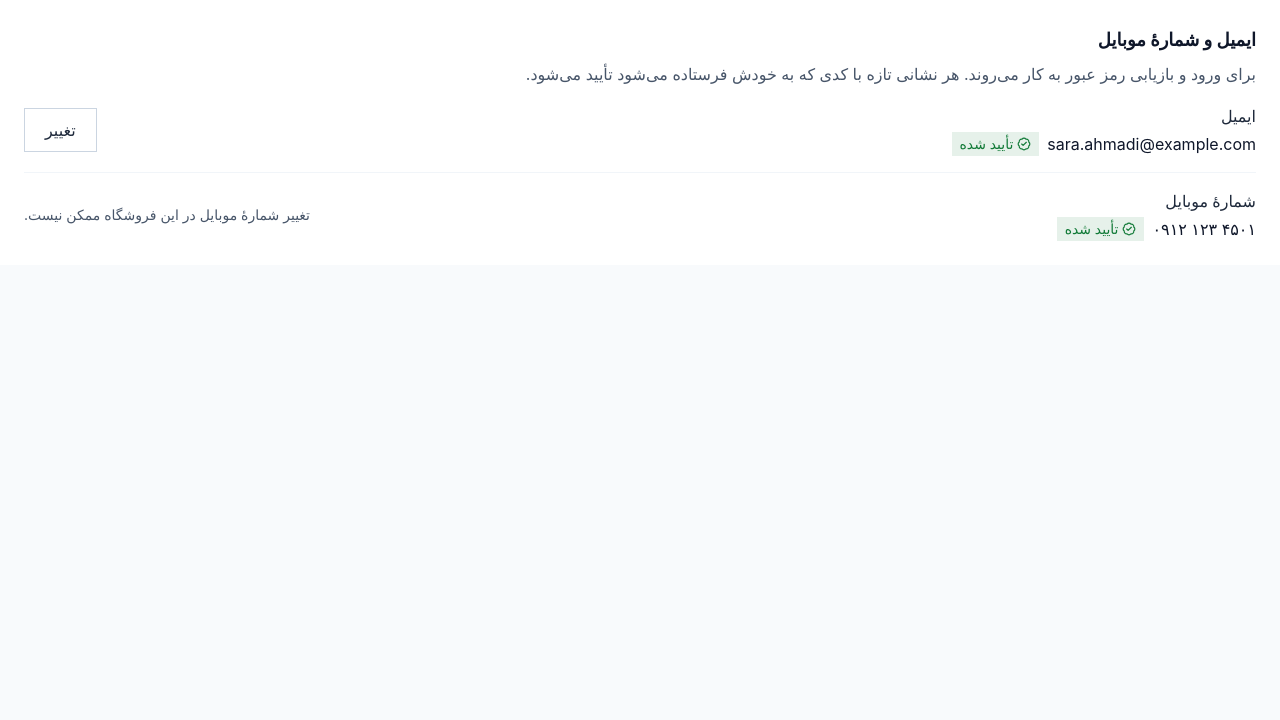
Test case: the authenticator code of a contact change › a refused code (auth_totp_invalid): said under the boxes, which empty and take the focus
The image size is (1280, 720).
Click the button with aria-label "تغییر ایمیل" at (60, 130), box [24,108,97,152]
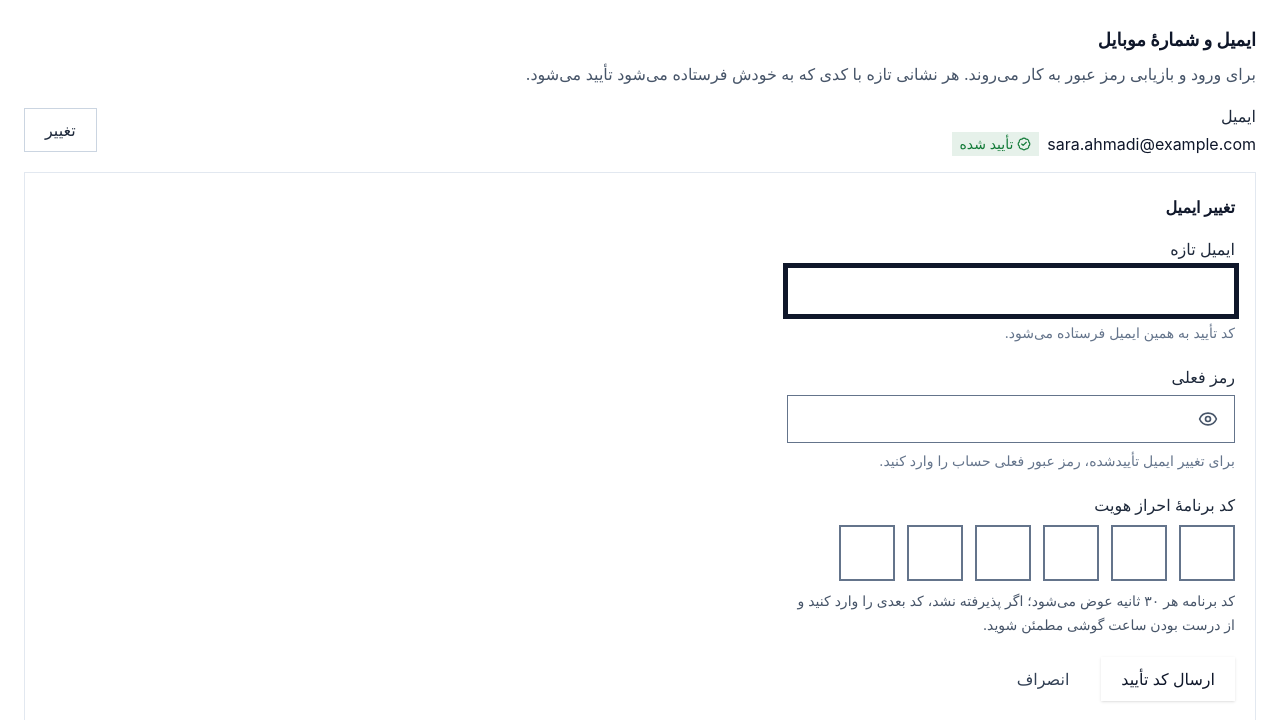
Type "n@example.com" into the field labelled "ایمیل تازه" at (1011, 291), box [788,268,1234,314]
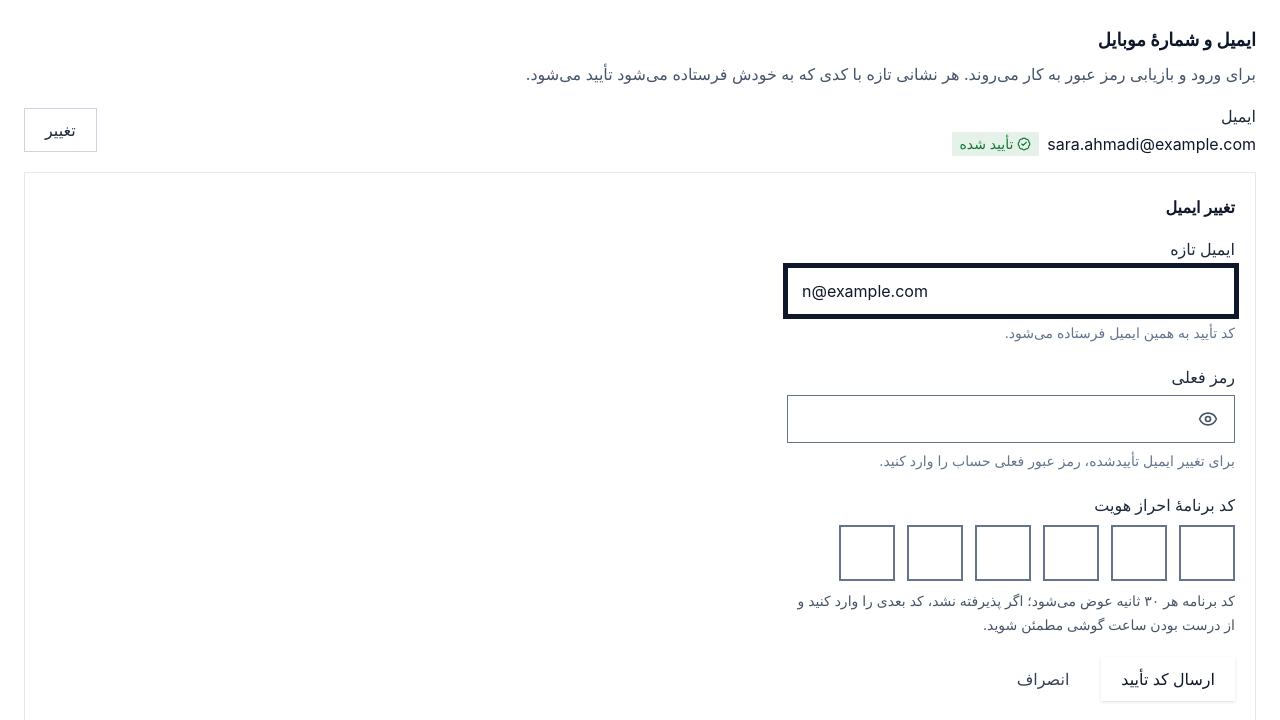
Type "Firefly@1234" into the password field labelled "رمز فعلی" at (987, 419), box [788,396,1186,442]
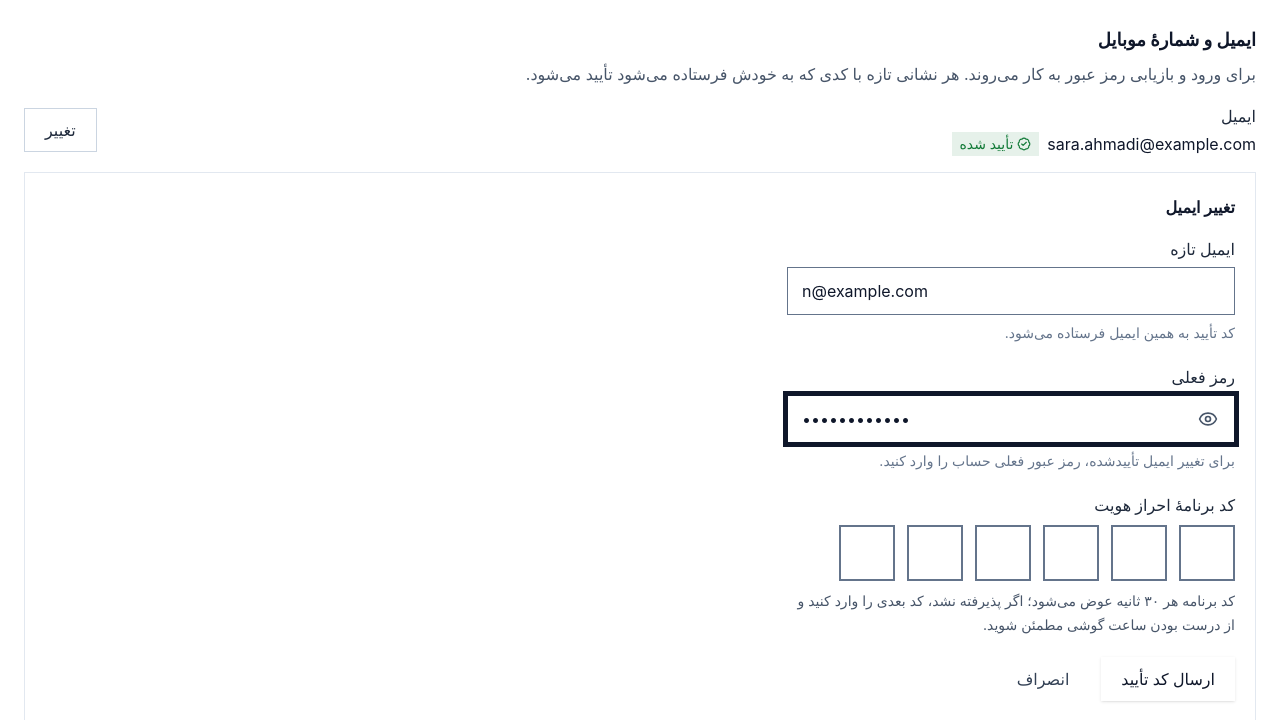
Type "654321" into the field named "رقم ۱" at (867, 553), box [839,525,895,581]
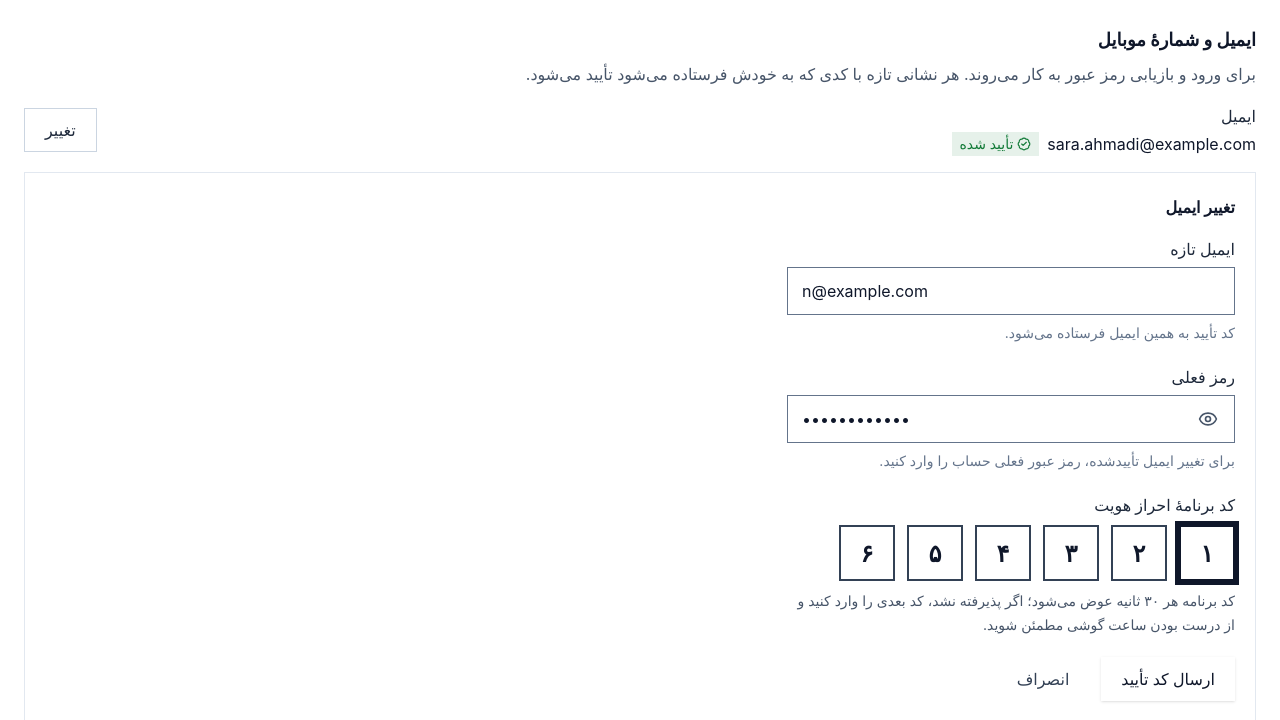
Click the button "ارسال کد تأیید" at (1168, 679), box [1101,657,1235,701]
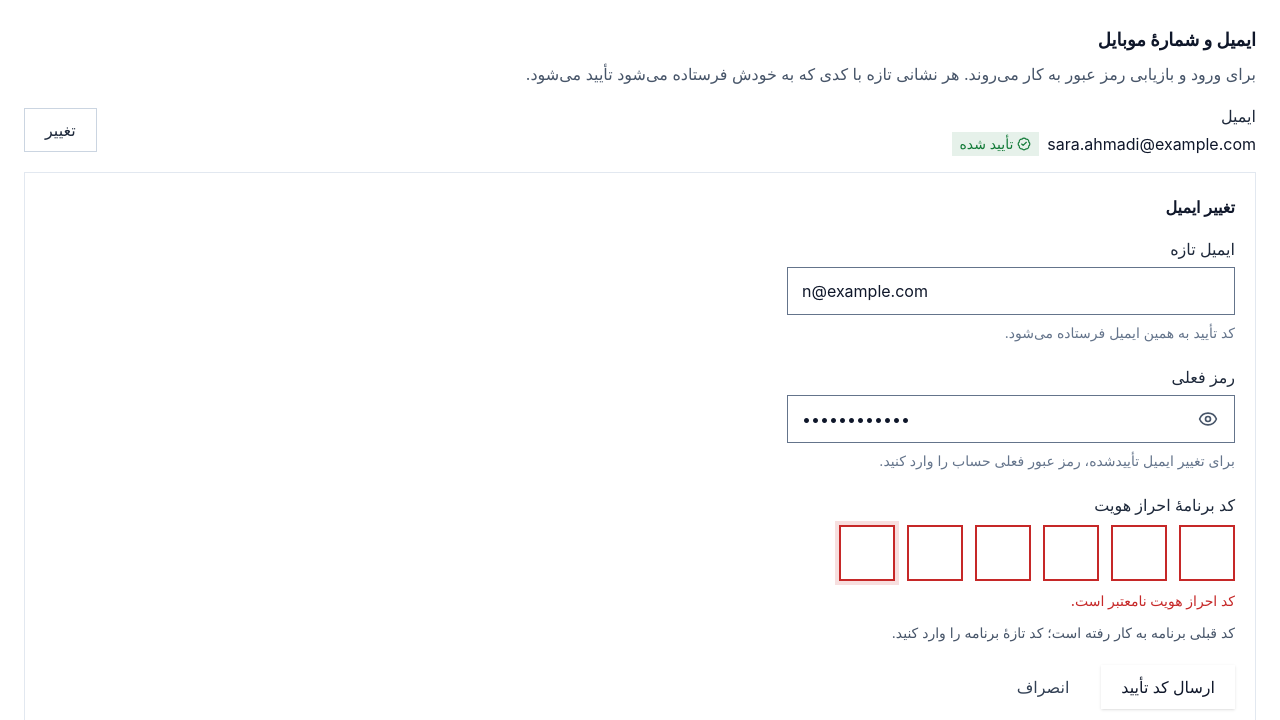
Now the field named "رقم ۱" is empty, box [839,525,895,581]
Now the field named "رقم ۲" is empty, box [907,525,963,581]
Now the field named "رقم ۳" is empty, box [975,525,1031,581]
